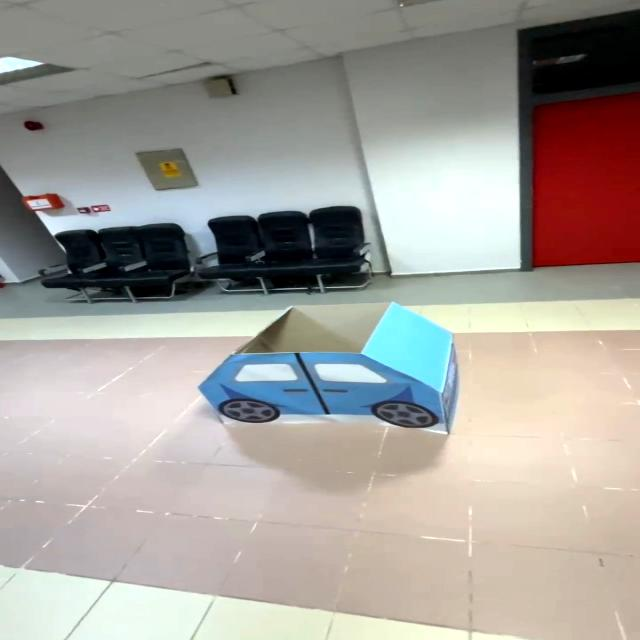blue_car: (148, 287, 536, 487)
